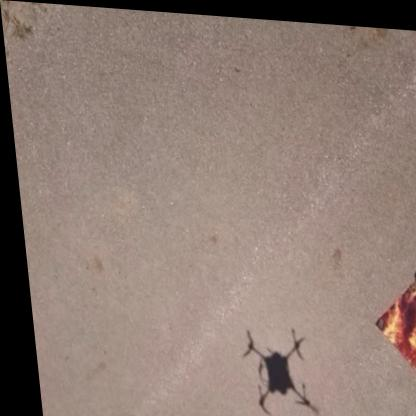fire-poster: (363, 258, 416, 396)
